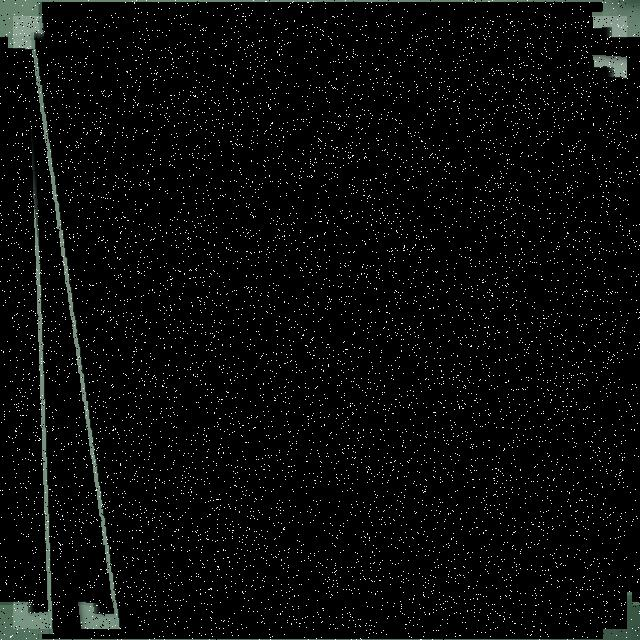dua ribu rupiah: (13, 16, 627, 629)
